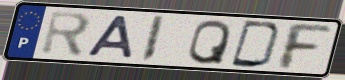A: (84, 14, 135, 60)
D: (228, 18, 285, 70)
F: (277, 21, 334, 72)
I: (138, 14, 167, 64)
Q: (186, 18, 234, 66)
R: (38, 9, 94, 59)
